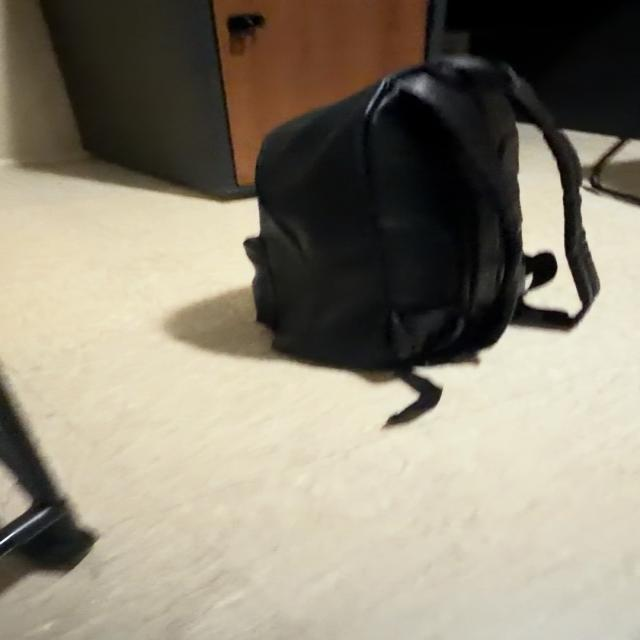backpack: (246, 56, 598, 423)
